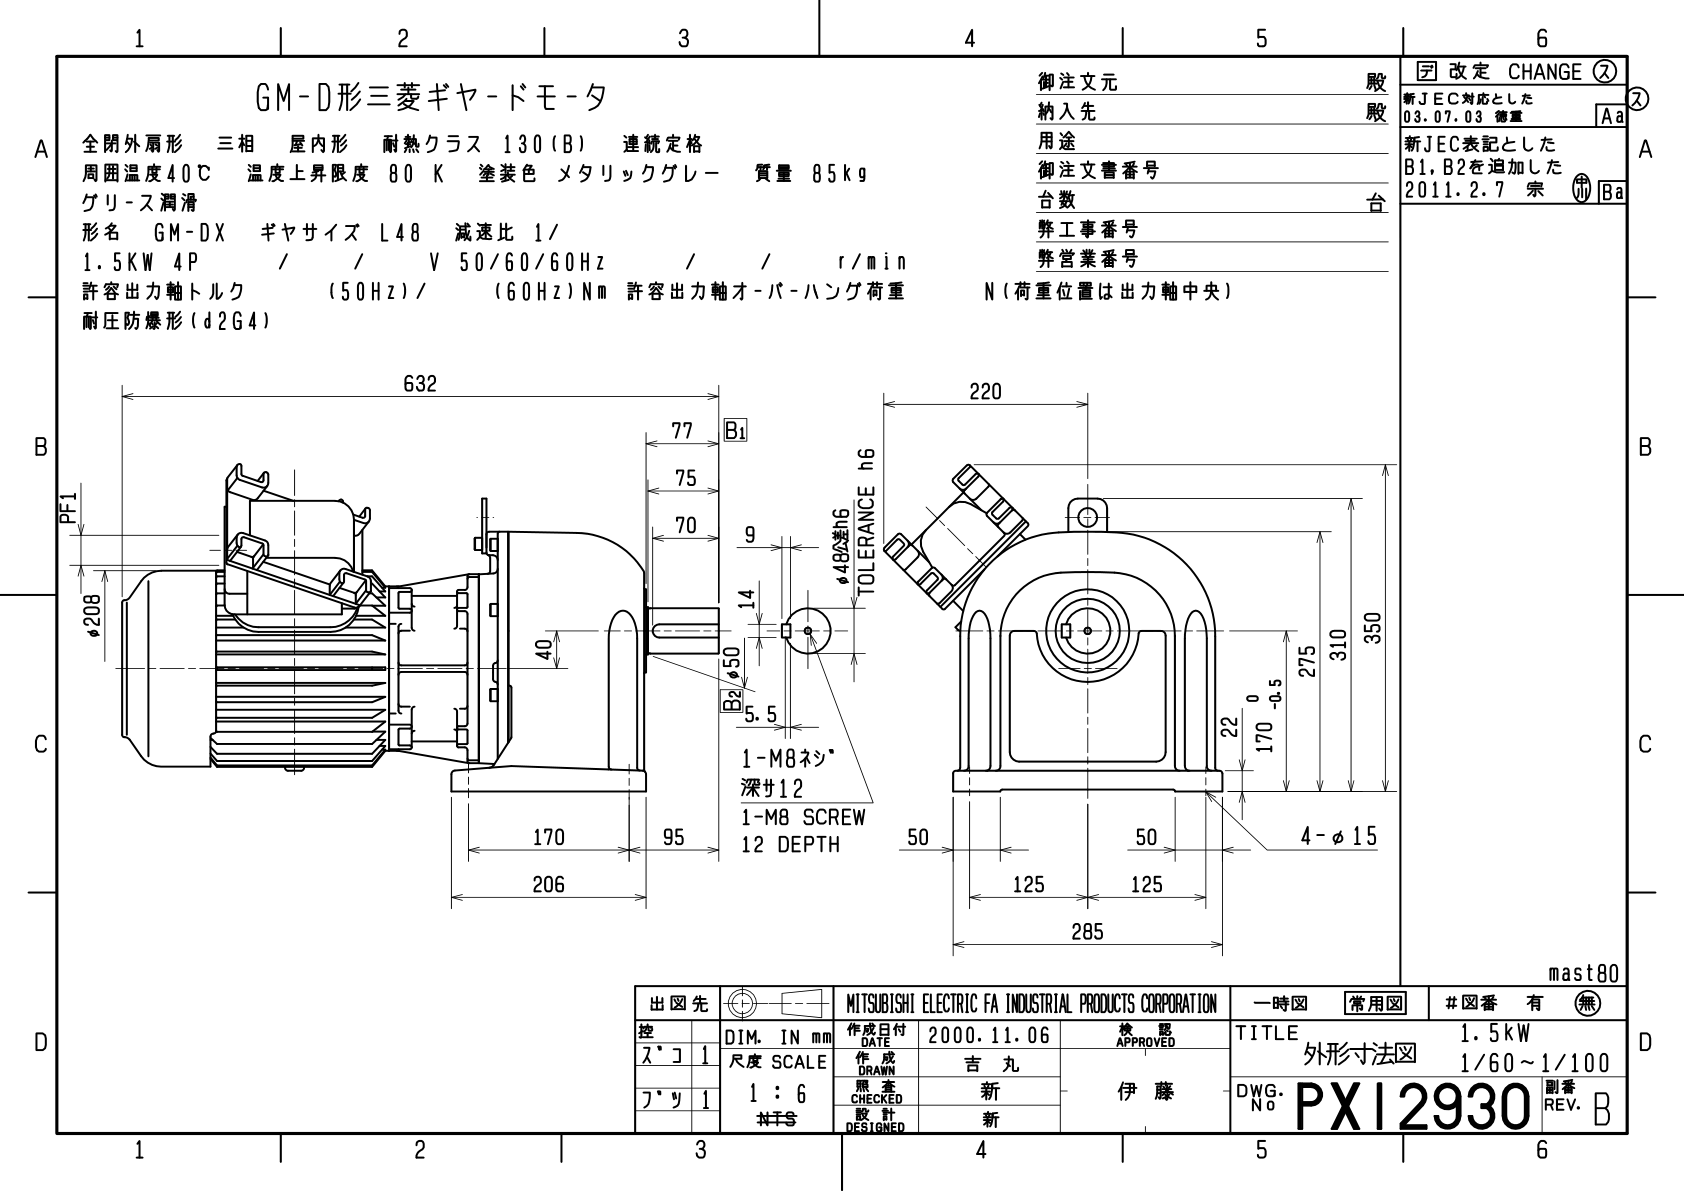GM_D_耐圧屋内_三相_脚: (4, 10, 1684, 1191)
